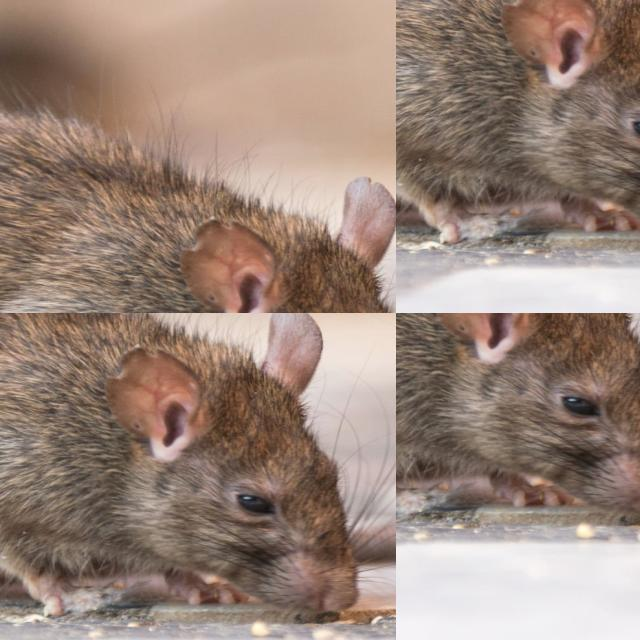rat: (396, 313, 640, 518), (0, 122, 124, 196), (92, 79, 150, 147)
